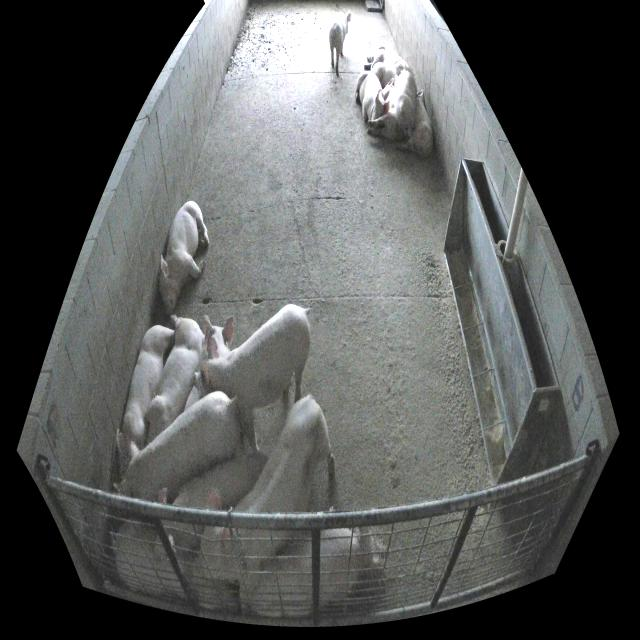pig: (191, 395, 335, 583), (196, 304, 310, 450), (113, 392, 237, 502), (155, 452, 269, 559), (110, 520, 237, 609), (250, 528, 374, 617), (117, 325, 175, 476), (148, 315, 205, 443), (160, 201, 210, 313), (367, 79, 408, 141), (398, 91, 433, 157), (198, 315, 234, 371), (356, 71, 390, 121), (395, 63, 416, 137), (329, 10, 351, 78), (364, 45, 410, 69), (371, 63, 398, 89)
